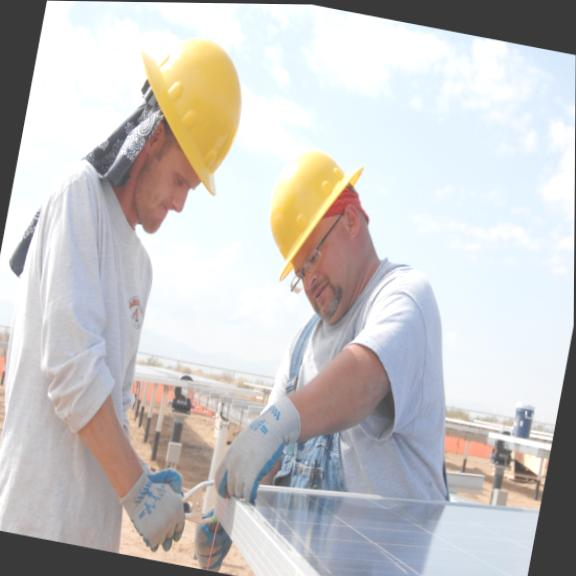no_safety_vest: (0, 200, 180, 554)
